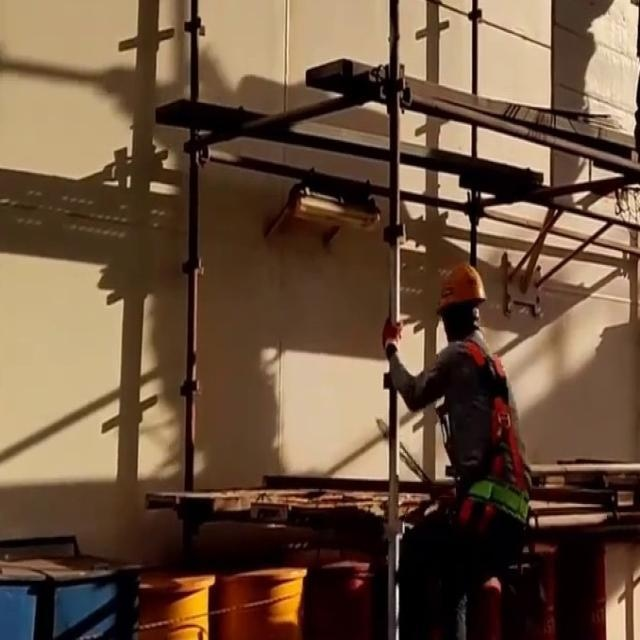Arnes_seguridad: (449, 330, 537, 501)
